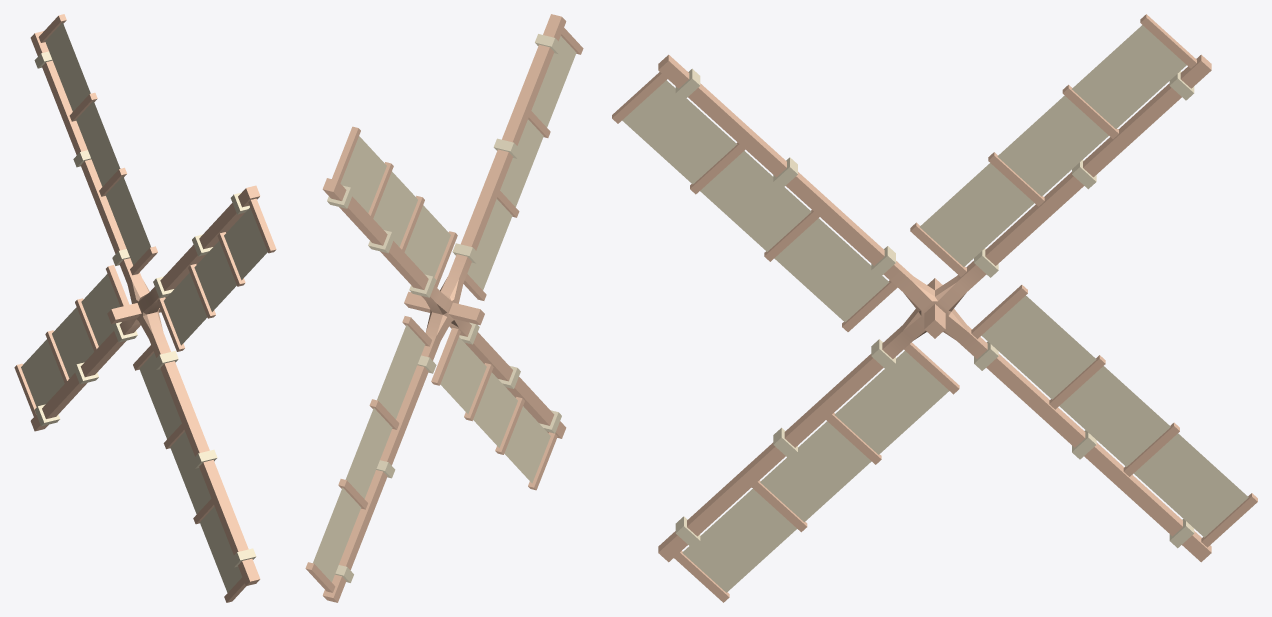
3 views of the same model, side by side, from view 1: azimuth 30°, elevation 25°; view 2: azimuth 150°, elevation 25°; view 3: azimuth 270°, elevation 25° (orthographic). The views are drawn at different scales.
Parts seen in each view (by area): view 1: windmill; view 2: windmill; view 3: windmill.
Boxes of the visible parts, x1,y1,x2,y2 form: windmill: (14, 14, 276, 602); windmill: (305, 14, 583, 602); windmill: (612, 14, 1257, 602).
Size of the model in its own units: 0.471 by 3.07 by 3.07.
